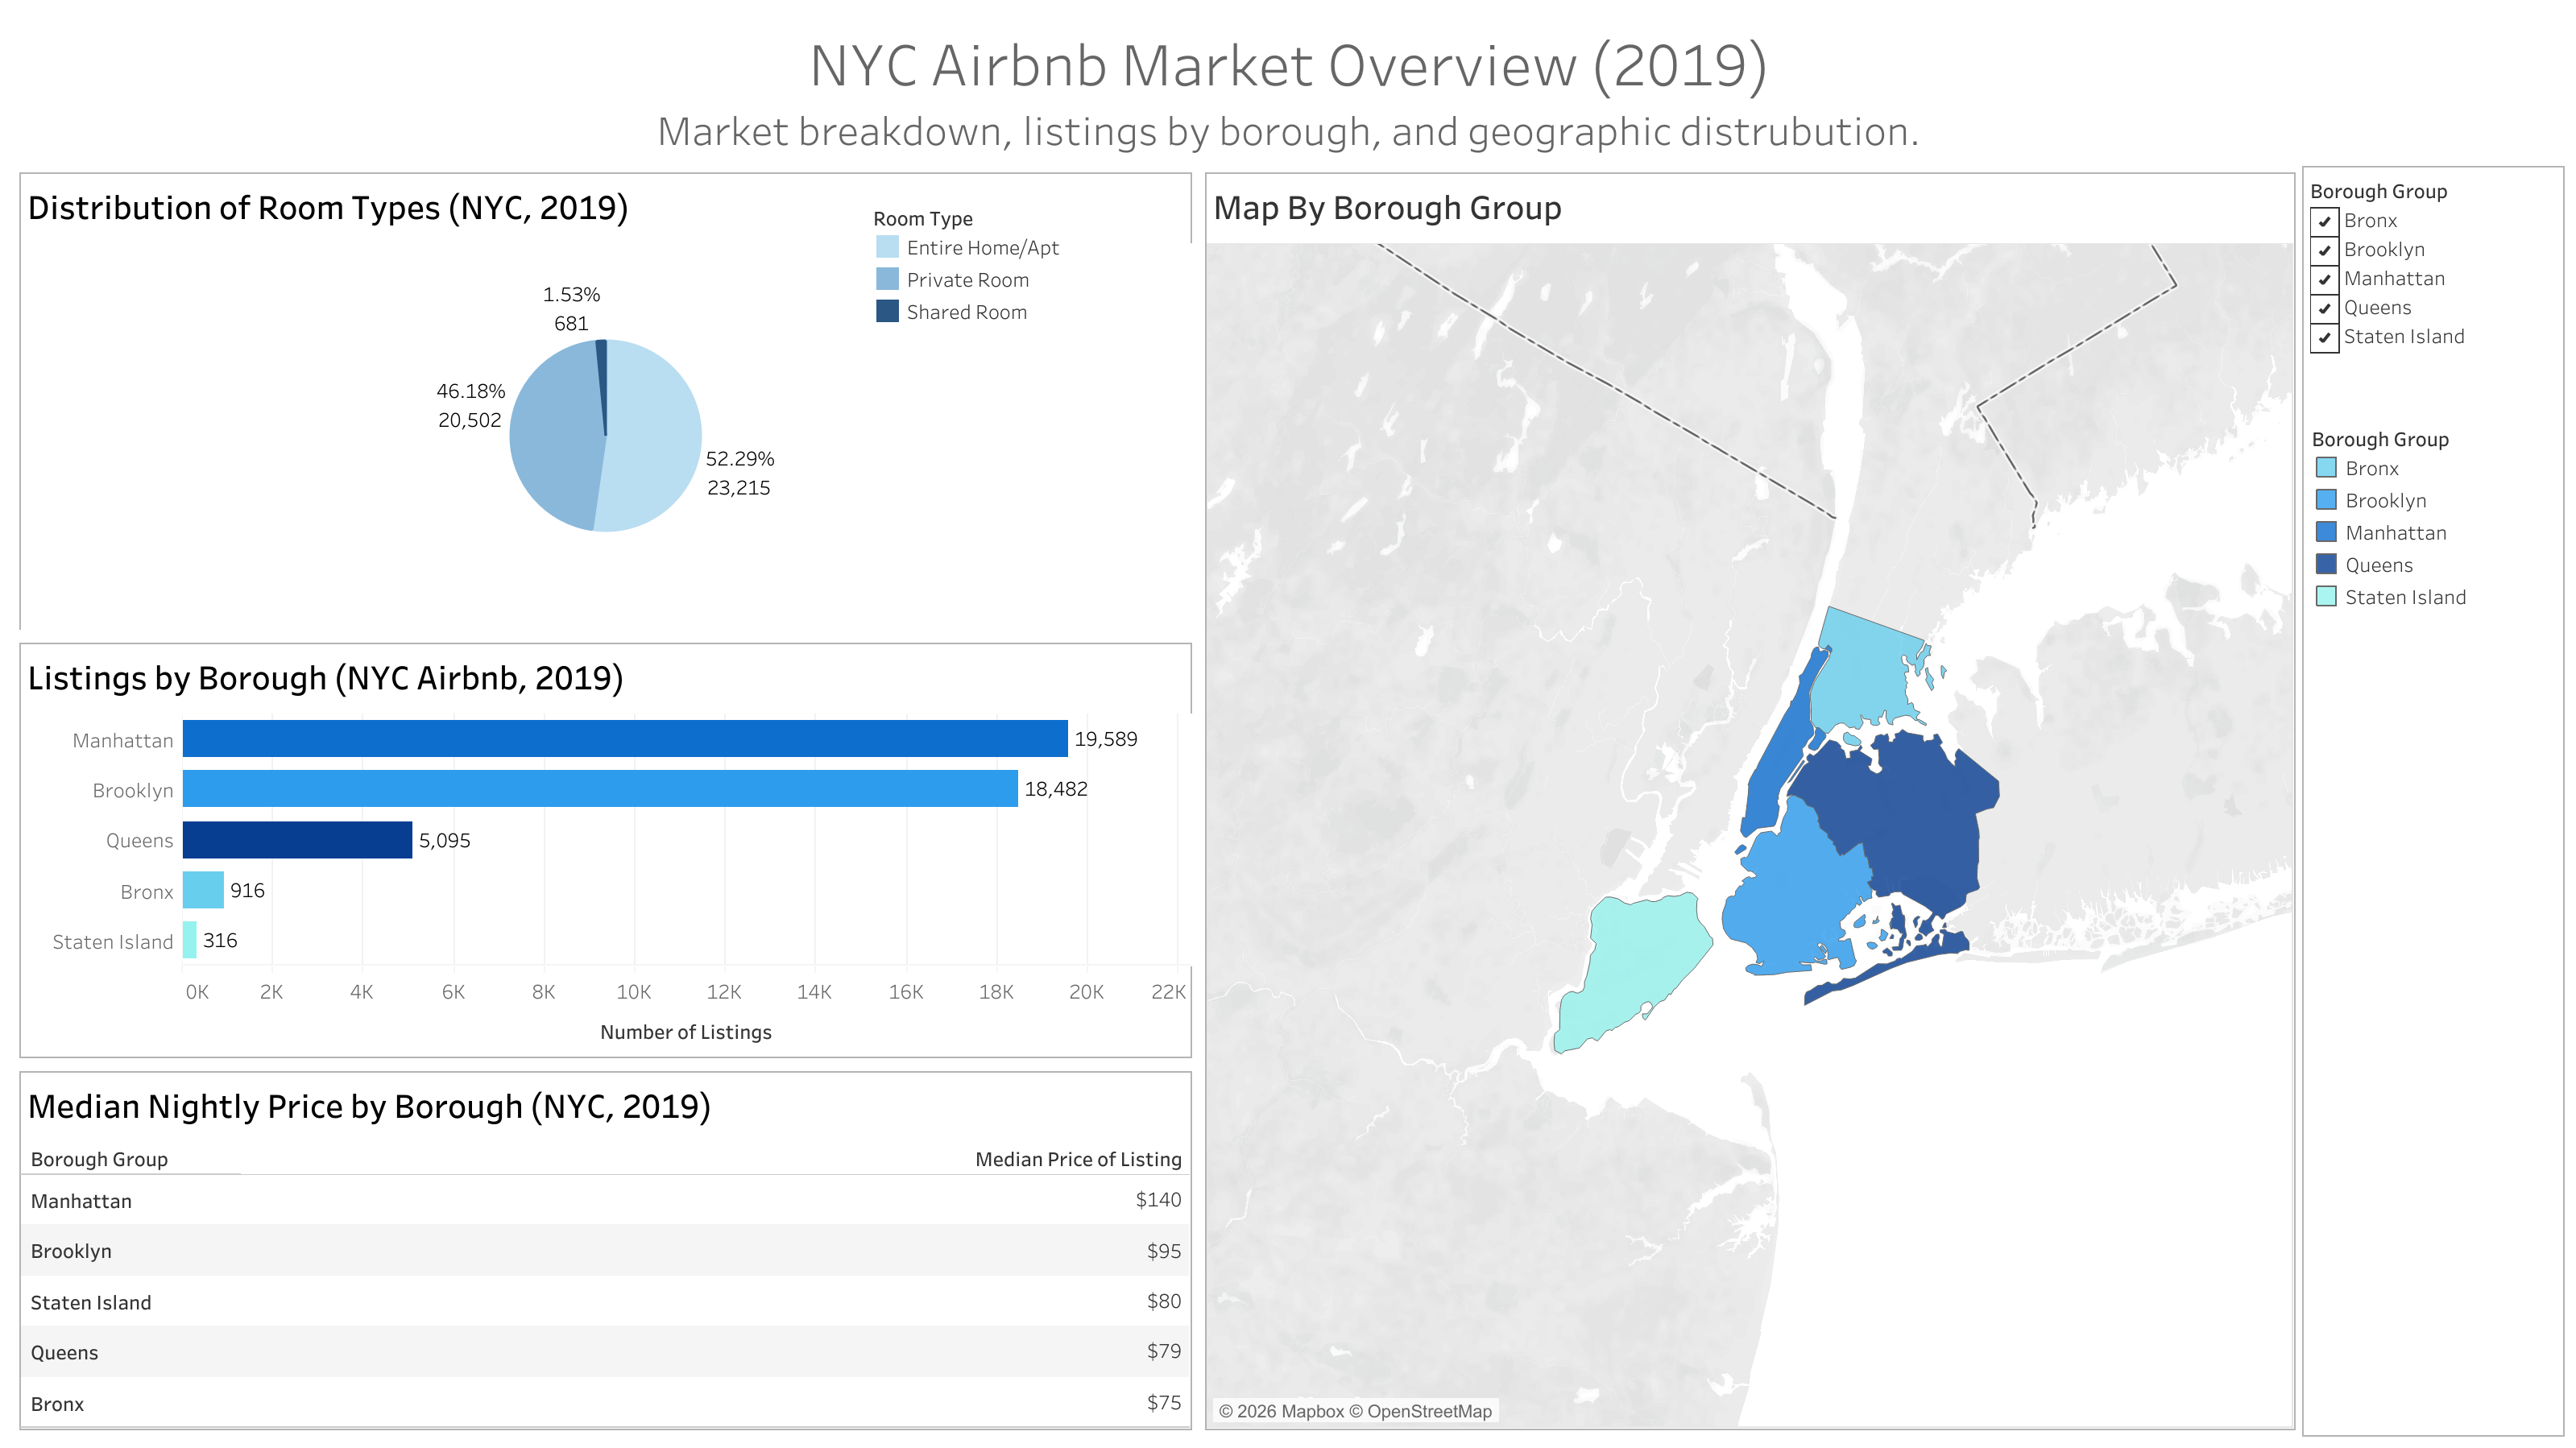

What the dashboard file says about the page in this screenshot:
{"tool":"tableau","page":{"name":"NYC Airbnb Market Overview","canvas":[1600,900],"ordinal":2},"visuals":[{"type":"text","box":[8,8,1584,95]},{"type":"worksheet","title":"Room Types","mark":"Pie","box":[8,103,736,292]},{"type":"worksheet","title":"Map By Neighbourhood Group","mark":"Multipolygon","box":[744,103,685,789]},{"type":"filter","title":"Map By Neighbourhood Group","param":"[federated.12w0qk70lazwvx0zwfm3r1wuq8je].[none:neighbourhood_group:nk]","box":[1430,104,161,146]},{"type":"legend","title":"Room Types","param":"[federated.12w0qk70lazwvx0zwfm3r1wuq8je].[none:room_type:nk]","box":[541,124,140,78]},{"type":"legend","title":"Map By Neighbourhood Group","param":"[federated.12w0qk70lazwvx0zwfm3r1wuq8je].[none:neighbourhood_group:nk]","box":[1430,250,161,126]},{"type":"worksheet","title":"Borough Group","mark":"Automatic","rows":["neighbourhood_group"],"cols":["listings_tableau.csv_5D6DE74BF192443E921959E4788AA4A9"],"box":[8,395,736,266]},{"type":"worksheet","title":"Median Nightly Price by Borough","mark":"Automatic","rows":["neighbourhood_group"],"box":[8,661,736,231]}]}

Visuals, with their boxes in screenshot pixels (x1, y1, x2, y2), scaled from the page's 1600x900 canvas onto the 2576x1448 screenshot:
text: Rect(13, 13, 2563, 166)
"Room Types" worksheet (Pie marks): Rect(13, 166, 1198, 635)
"Map By Neighbourhood Group" worksheet (Multipolygon marks): Rect(1198, 166, 2301, 1435)
"Map By Neighbourhood Group" filter: Rect(2302, 168, 2562, 402)
"Room Types" legend: Rect(871, 200, 1096, 325)
"Map By Neighbourhood Group" legend: Rect(2302, 402, 2562, 605)
"Borough Group" worksheet: Rect(13, 635, 1198, 1064)
"Median Nightly Price by Borough" worksheet: Rect(13, 1064, 1198, 1435)
